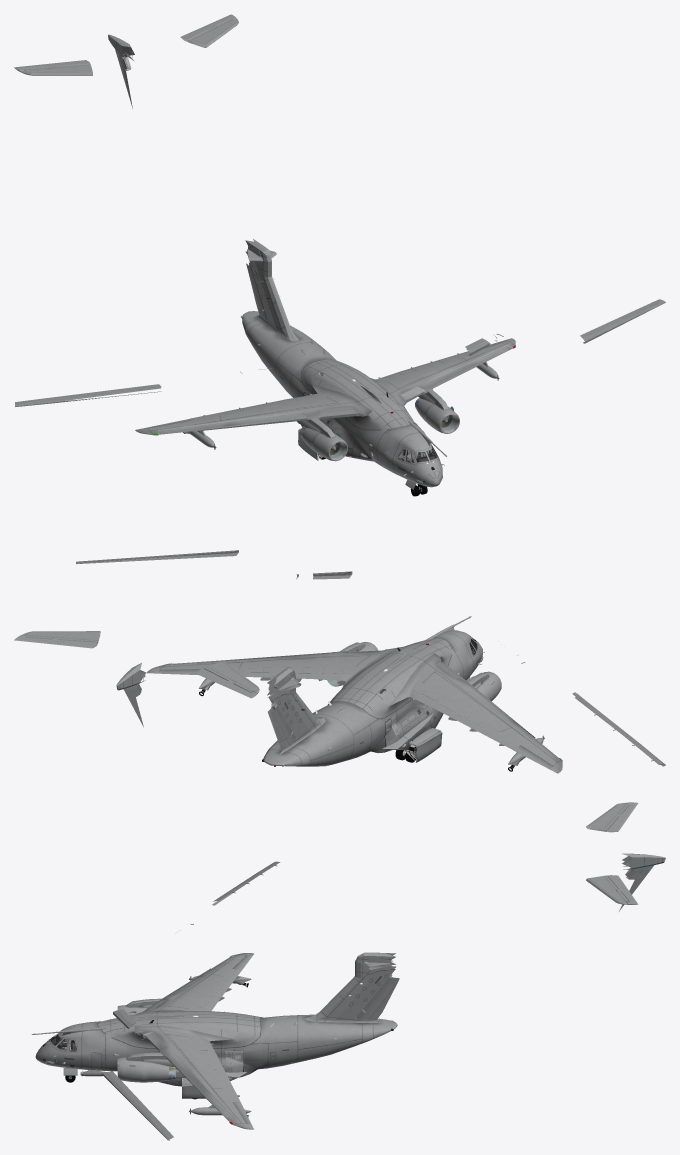
File: kc390-training-ready.glb
3 renders of one model, top to bottom at view 1: azimuth 30°, elevation 25°; view 2: azimuth 150°, elevation 25°; view 3: azimuth 270°, elevation 25°, orthographic. The views are drawn at different scales.
Parts seen in each view (by area): view 1: KC390, KC390.016, KC390.017, KC390.002, KC390.018_fuzelagem__0_BODY, KC390_AILERON_L, KC390_ELEVATOR_L, KC390_ELEVATOR_R, KC390.019, KC390_AILERON_R, KC390.001_part_asas_0_BODY; view 2: KC390, KC390.016, KC390.017, KC390.018_fuzelagem__0_BODY, KC390.019, KC390.002, KC390_ELEVATOR_R, KC390_ELEVATOR_L, KC390_AILERON_R, KC390_RUDDER.002, KC390_AILERON_L; view 3: KC390, KC390.017, KC390.018_fuzelagem__0_BODY, KC390.016, KC390.002, KC390.019, KC390_ELEVATOR_L, KC390_ELEVATOR_R, KC390_RUDDER.002, KC390_AILERON_R.
Boxes of the visible parts, x1,y1,x2,y2 form: KC390: [242, 311, 448, 489]; KC390.016: [135, 383, 373, 435]; KC390.017: [370, 338, 515, 406]; KC390.002: [185, 362, 497, 461]; KC390.018_fuzelagem__0_BODY: [245, 239, 299, 341]; KC390_AILERON_L: [15, 384, 161, 406]; KC390_ELEVATOR_L: [14, 60, 92, 75]; KC390_ELEVATOR_R: [180, 14, 238, 47]; KC390.019: [298, 418, 373, 461]; KC390_AILERON_R: [580, 299, 665, 343]; KC390.001_part_asas_0_BODY: [201, 407, 356, 430]; KC390: [263, 616, 484, 766]; KC390.016: [388, 652, 562, 773]; KC390.017: [146, 646, 406, 688]; KC390.018_fuzelagem__0_BODY: [267, 668, 325, 754]; KC390.019: [371, 704, 443, 762]; KC390.002: [199, 642, 543, 765]; KC390_ELEVATOR_R: [14, 631, 100, 648]; KC390_ELEVATOR_L: [196, 661, 259, 698]; KC390_AILERON_R: [76, 550, 238, 563]; KC390_RUDDER.002: [116, 663, 146, 727]; KC390_AILERON_L: [572, 692, 665, 766]; KC390: [31, 1011, 397, 1075]; KC390.017: [134, 1025, 253, 1129]; KC390.018_fuzelagem__0_BODY: [304, 952, 399, 1022]; KC390.016: [135, 953, 253, 1014]; KC390.002: [117, 975, 251, 1115]; KC390.019: [158, 1055, 266, 1098]; KC390_ELEVATOR_L: [586, 802, 638, 832]; KC390_ELEVATOR_R: [586, 875, 638, 904]; KC390_RUDDER.002: [619, 853, 665, 911]; KC390_AILERON_R: [102, 1071, 173, 1140].
Bounding box in the file's own units: 55.05 × 21.41 × 54.56.
27 materials, 13 textured.
